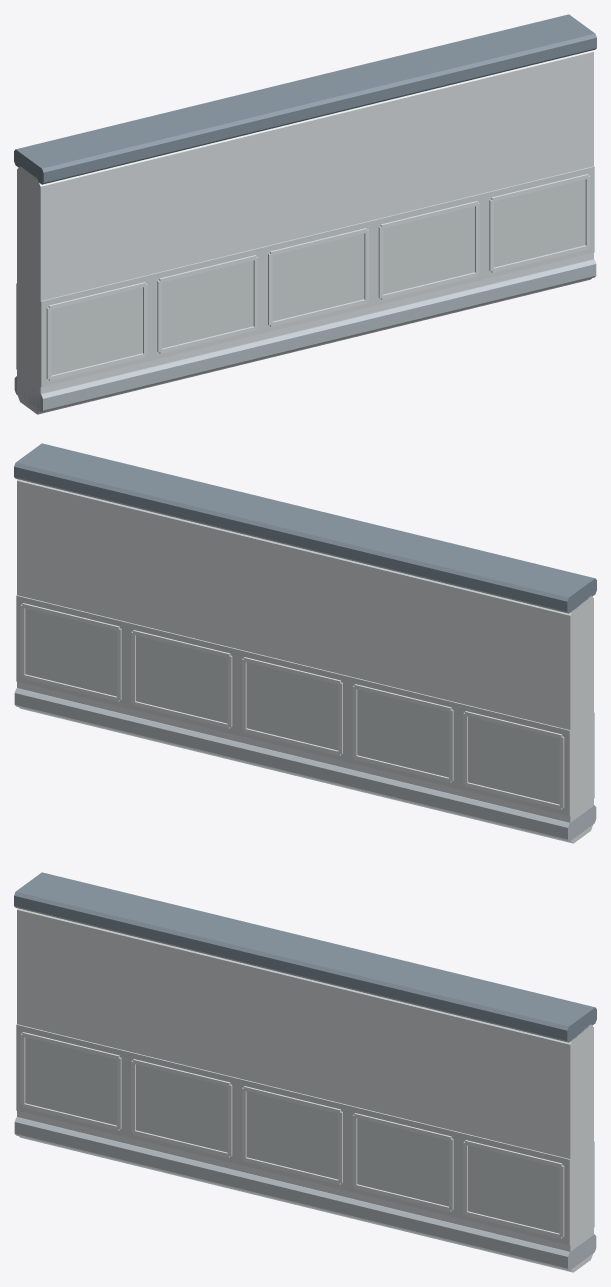
Rendered from wall_hospital_waiting.glb.
3 renders of one model, top to bottom at view 1: azimuth 30°, elevation 25°; view 2: azimuth 150°, elevation 25°; view 3: azimuth 330°, elevation 25°, orthographic.
Parts seen in each view (by area): view 1: Part_001, Part_005, Part_002, Part_003, Part_009, Part_017, Part_025, Part_039, Part_041, Part_033, Part_007, Part_015 (+2 smaller); view 2: Part_001, Part_004, Part_002, Part_003, Part_008, Part_032, Part_016, Part_040, Part_024, Part_038, Part_006, Part_014 (+2 smaller); view 3: Part_001, Part_005, Part_002, Part_003, Part_041, Part_017, Part_009, Part_033, Part_025, Part_007, Part_039, Part_015 (+2 smaller).
Boxes of the visible parts, x1,y1,x2,y2 form: Part_001: (17,50,593,414); Part_005: (40,166,594,387); Part_002: (14,14,596,184); Part_003: (14,259,596,412); Part_009: (48,282,145,309); Part_017: (159,255,256,282); Part_025: (270,228,367,255); Part_039: (491,245,588,272); Part_041: (491,174,588,201); Part_033: (380,201,477,228); Part_007: (48,353,145,380); Part_015: (159,326,256,353); Part_001: (17,479,593,843); Part_004: (16,595,570,816); Part_002: (14,443,596,613); Part_003: (14,688,596,841); Part_008: (465,711,562,738); Part_032: (133,630,230,657); Part_016: (354,684,451,711); Part_040: (22,603,119,630); Part_024: (243,657,340,684); Part_038: (22,674,119,701); Part_006: (465,782,562,809); Part_014: (354,755,451,782); Part_001: (17,908,593,1272); Part_005: (16,1024,570,1245); Part_002: (14,872,596,1042); Part_003: (14,1117,596,1270); Part_041: (465,1140,562,1167); Part_017: (133,1059,230,1086); Part_009: (22,1032,119,1059); Part_033: (354,1113,451,1140); Part_025: (243,1086,340,1113); Part_007: (22,1103,119,1130); Part_039: (465,1211,562,1238); Part_015: (133,1130,230,1157).
Size of the model in its own units: 2.7 by 1.16 by 0.25.
